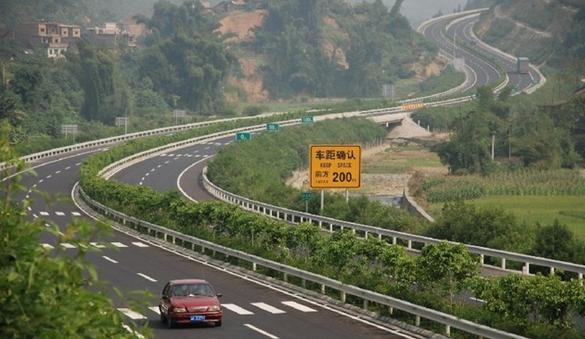car: (158, 279, 222, 328)
